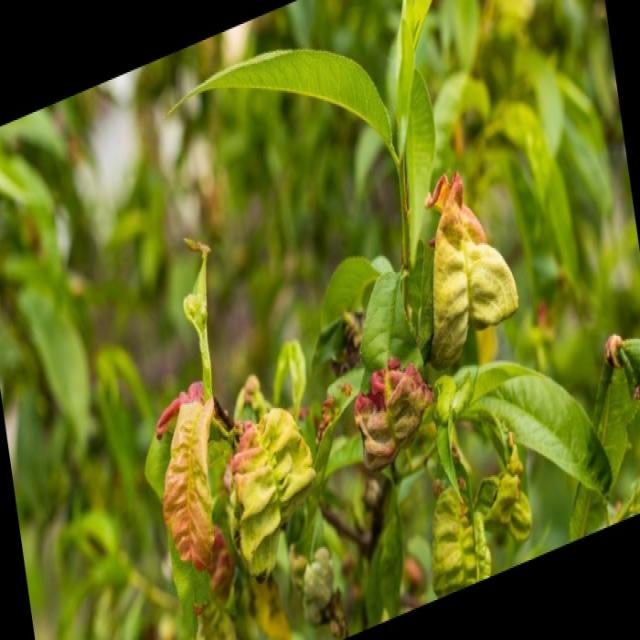peach_leaf_curl: (148, 328, 302, 572), (424, 161, 540, 304), (353, 354, 433, 472)
